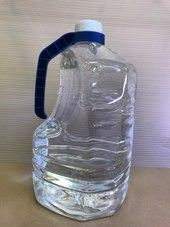bottle: (25, 12, 144, 224)
